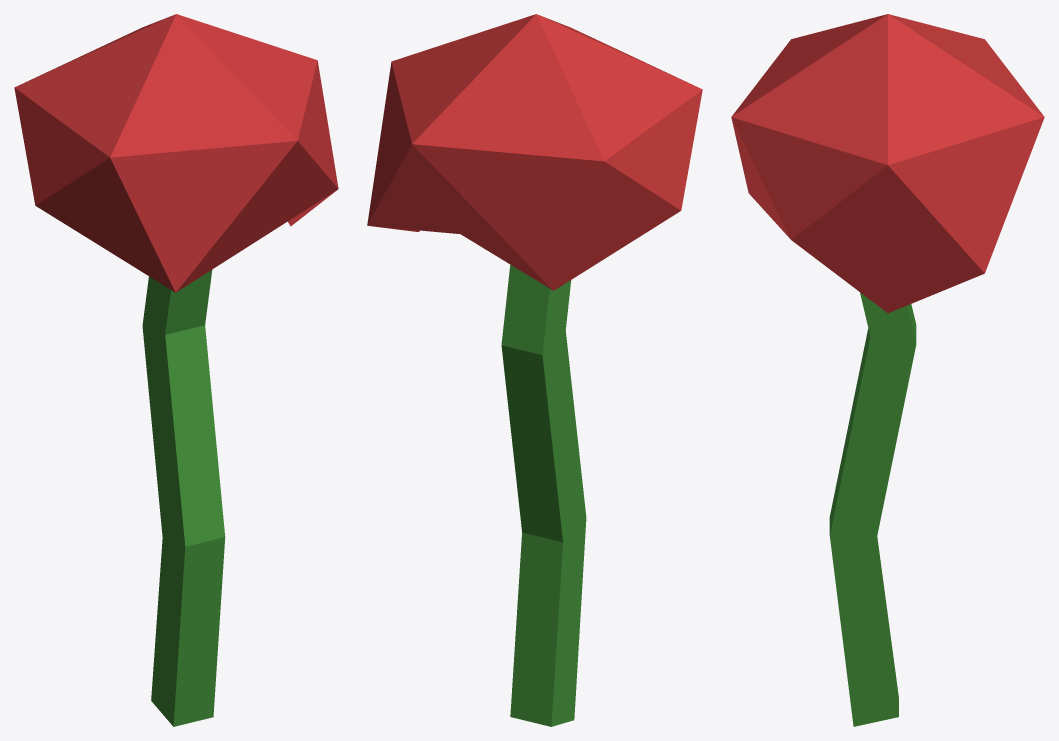
The model's file is dahlia.fbx.
3 views of the same model, side by side, from view 1: azimuth 30°, elevation 25°; view 2: azimuth 150°, elevation 25°; view 3: azimuth 270°, elevation 25° (orthographic). The views are drawn at different scales.
Visible parts, largest first — view 1: Plane; view 2: Plane; view 3: Plane.
Boxes of the visible parts, x1,y1,x2,y2 form: Plane: (14, 14, 338, 726); Plane: (367, 14, 702, 726); Plane: (731, 14, 1044, 726).
Bounding box in the file's own units: 212 × 499 × 202.
